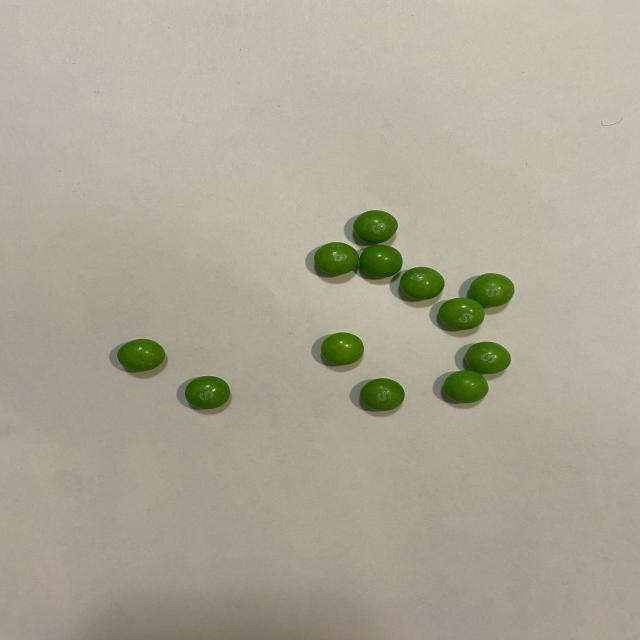smartie: (116, 339, 165, 372), (438, 298, 485, 330), (359, 244, 403, 278), (470, 273, 514, 307), (353, 210, 398, 243), (314, 242, 359, 275), (400, 267, 445, 300), (443, 371, 489, 403), (465, 342, 511, 374), (360, 379, 405, 411), (185, 377, 230, 409), (321, 332, 364, 365)
